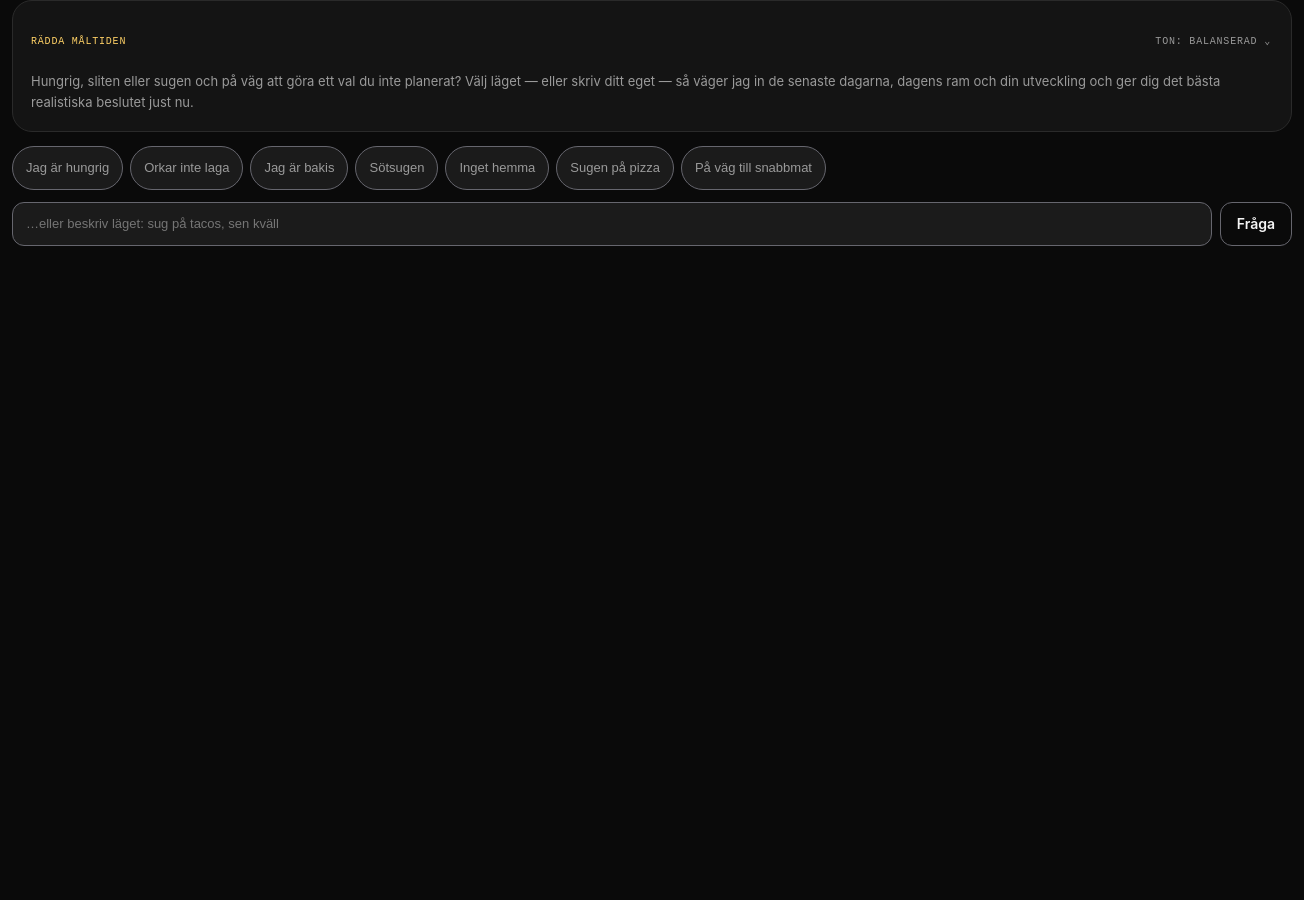
Test: matakuten i gränssnittet › ett valt läge ger förslag, ETT rekommenderat, och skyddsräcket
The width and height of the screenshot is (1304, 900).
Click the button "Sötsugen". click: (397, 168)
box: x1=356 y1=146 x2=438 y2=190
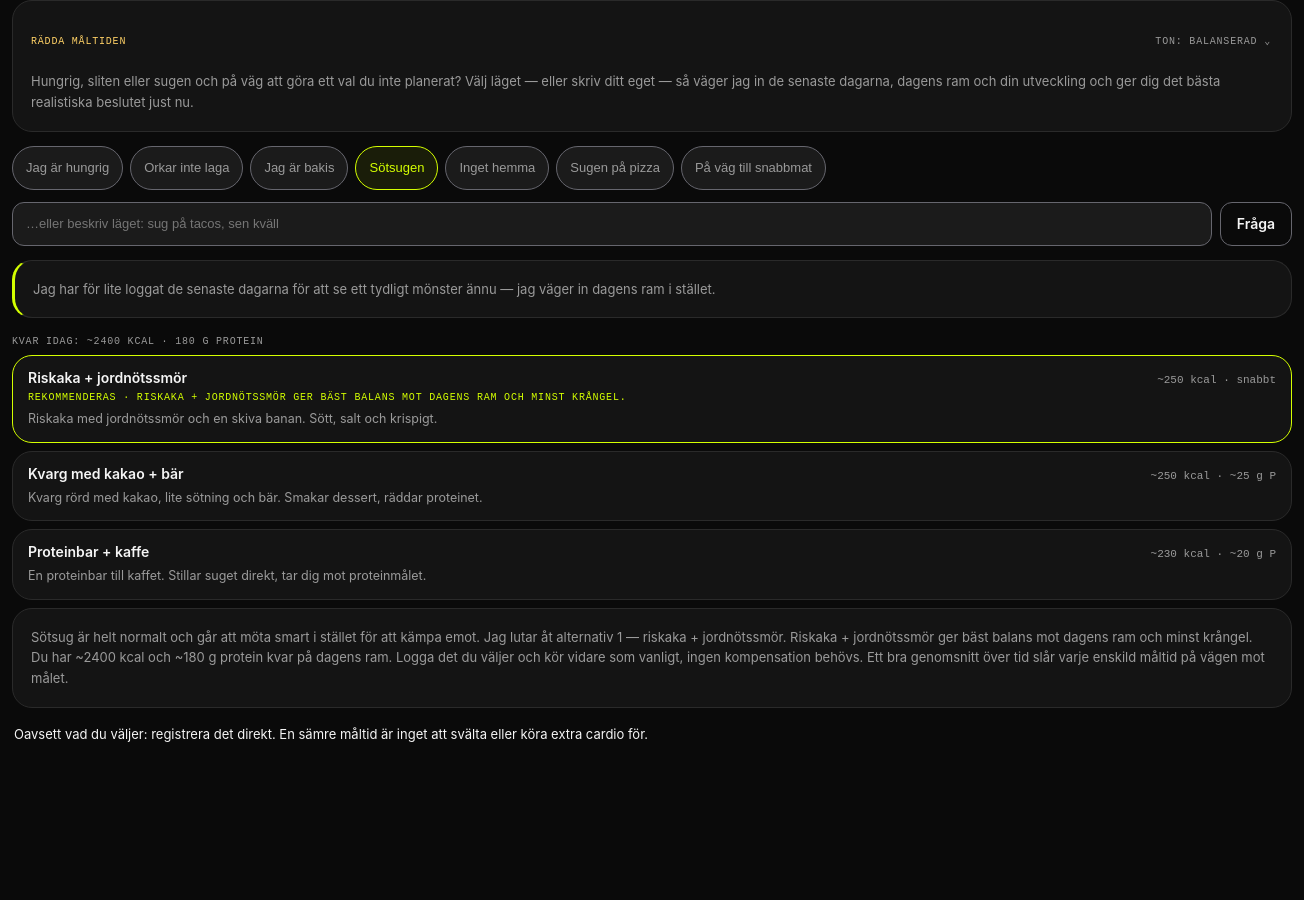
Now the text "Rekommenderas" is shown, box x1=28 y1=392 x2=137 y2=403
